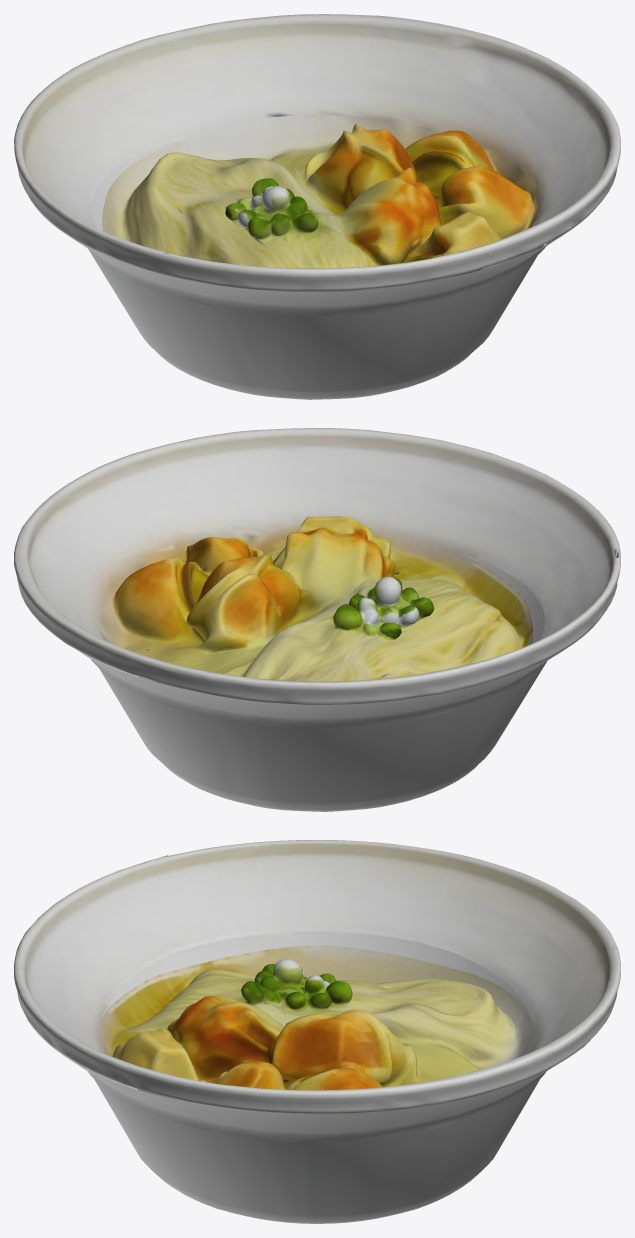
Rendered from wonton-soup-noodles.glb.
3 renders of one model, top to bottom at view 1: azimuth 30°, elevation 25°; view 2: azimuth 150°, elevation 25°; view 3: azimuth 270°, elevation 25°, orthographic.
Visible parts, largest first — view 1: material; view 2: material; view 3: material.
Part boxes in pixels (x1=…): material: x1=14, y1=14, x2=620, y2=399; material: x1=14, y1=428, x2=620, y2=811; material: x1=14, y1=840, x2=620, y2=1223.
Size of the model in its own units: 1.9 by 0.6834 by 1.89.
Materials: 1 (1 with a texture image).
